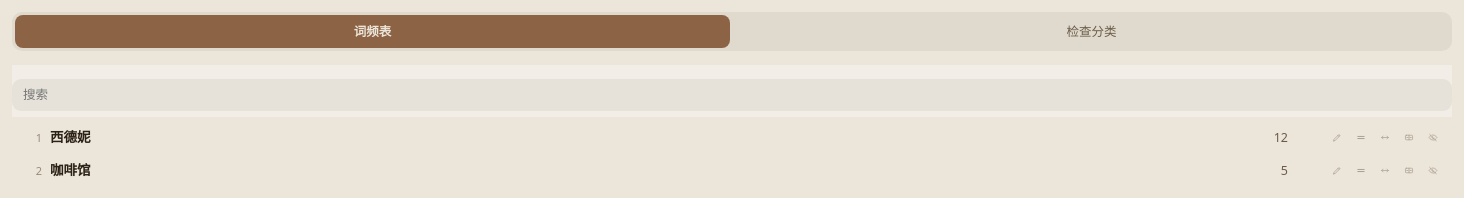
it: WordsPanel display name › Escape cancels without writing anything
Step 1. Click the button titled "在云上显示的字" → point(1337, 137), box [1326,126,1348,148]
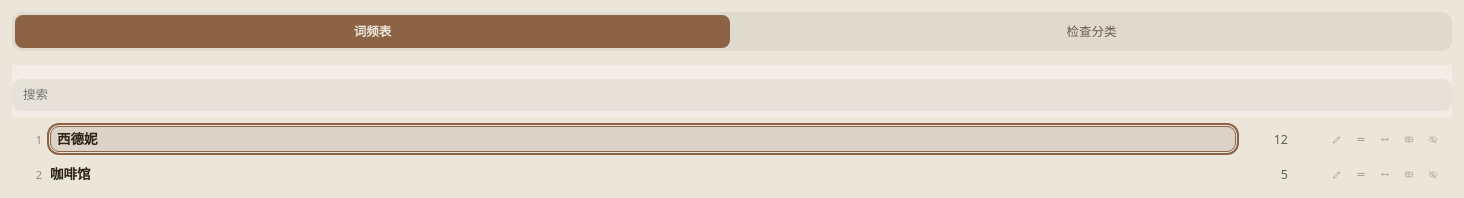
Step 2. Replace the text in the field named "显示名" with "Sydney" → point(643, 139), box [50,126,1236,152]
Then press Escape
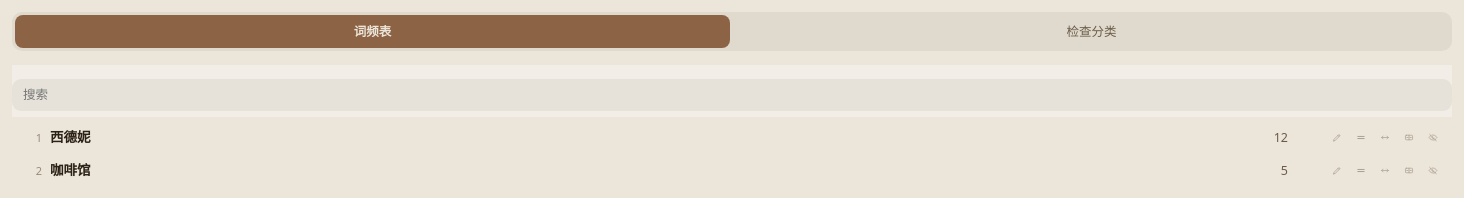
expect the field labelled "显示名" is gone: met
